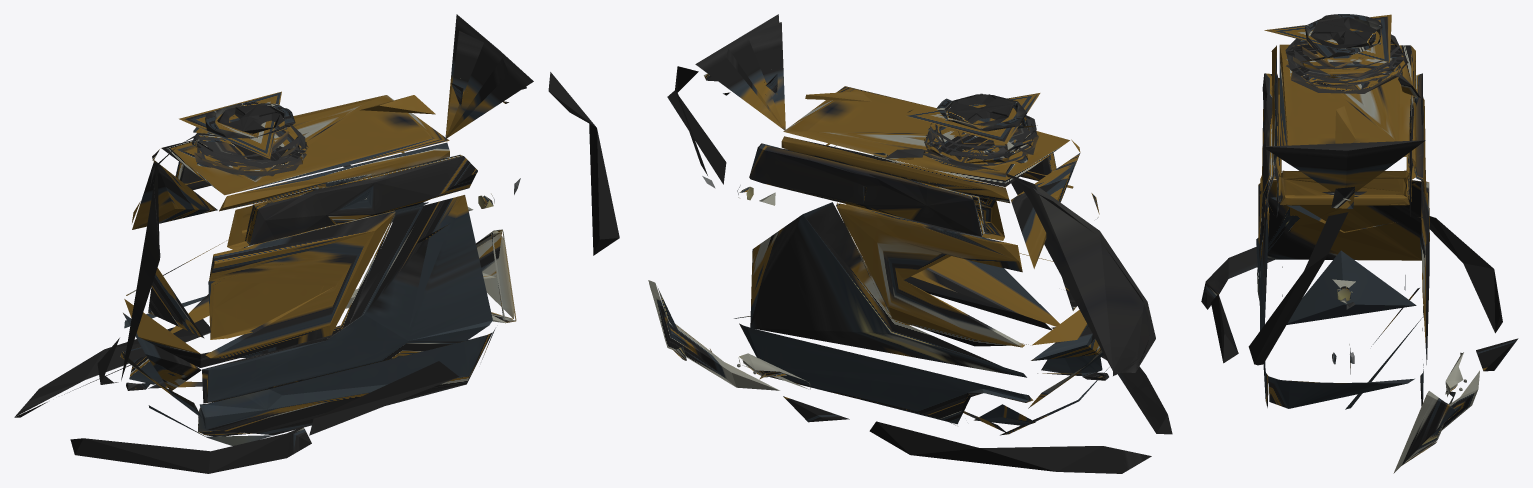
Rendered from serviceTool_extractor_b01.glb.
The picture shows the model from 3 angles, left to right: view 1: azimuth 30°, elevation 25°; view 2: azimuth 150°, elevation 25°; view 3: azimuth 270°, elevation 25°; orthographic projection.
Visible parts, largest first — view 1: geometry_0; view 2: geometry_0; view 3: geometry_0.
Boxes of the visible parts, x1,y1,x2,y2 form: geometry_0: [14, 14, 619, 473]; geometry_0: [648, 14, 1172, 473]; geometry_0: [1201, 14, 1518, 473].
Size of the model in its own units: 0.42 by 0.2459 by 0.2137.
Materials: 1 (1 with a texture image).
